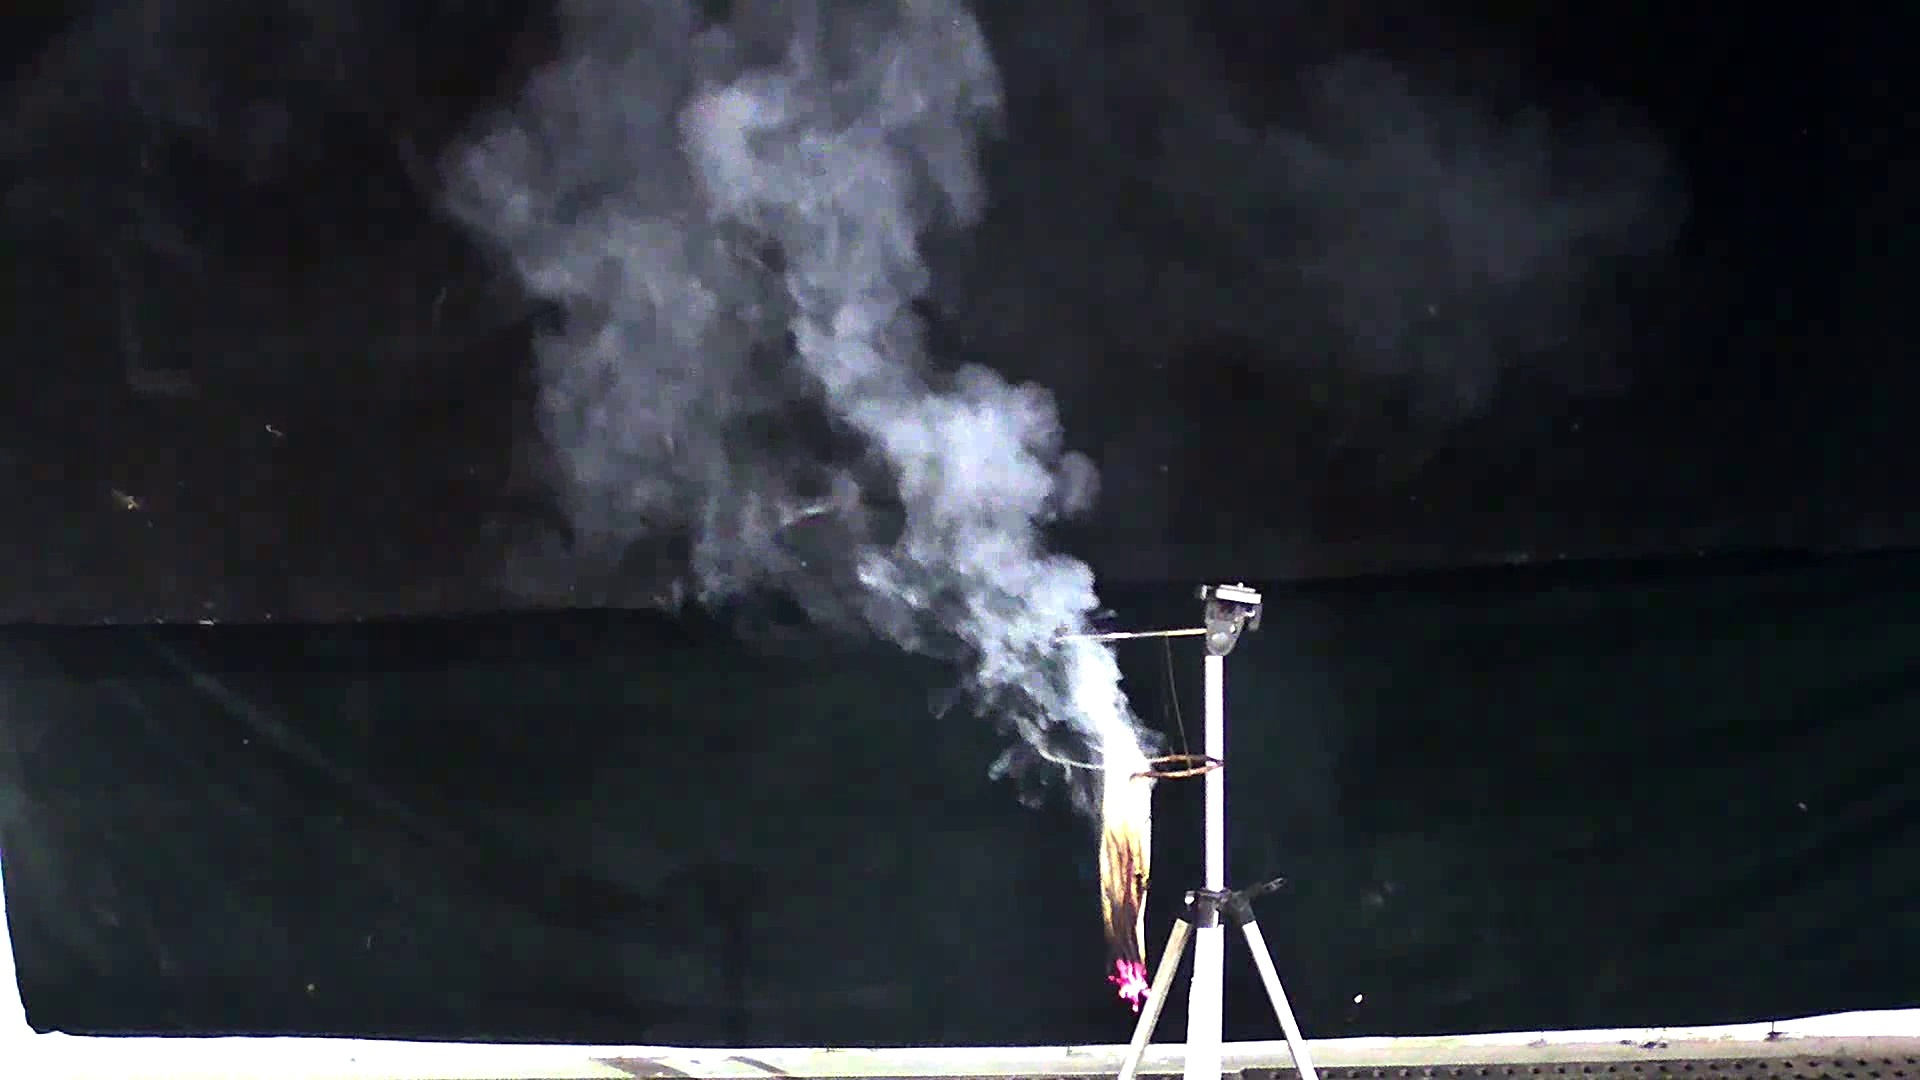smoke: (475, 28, 1171, 824)
